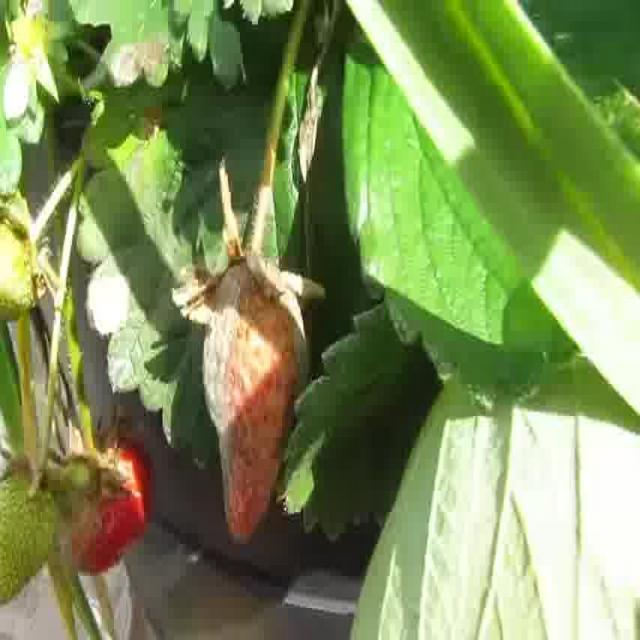Fruta sana: (0, 457, 62, 610), (0, 193, 42, 327)
Moho gris: (200, 254, 311, 544), (63, 427, 158, 575)
